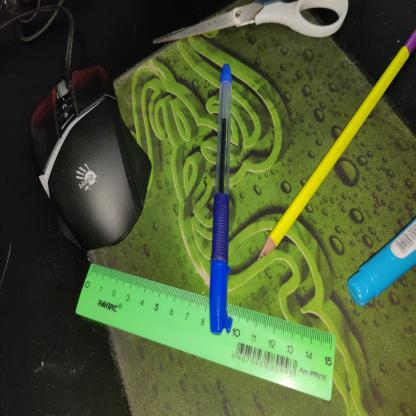Pen: (213, 49, 241, 385)
